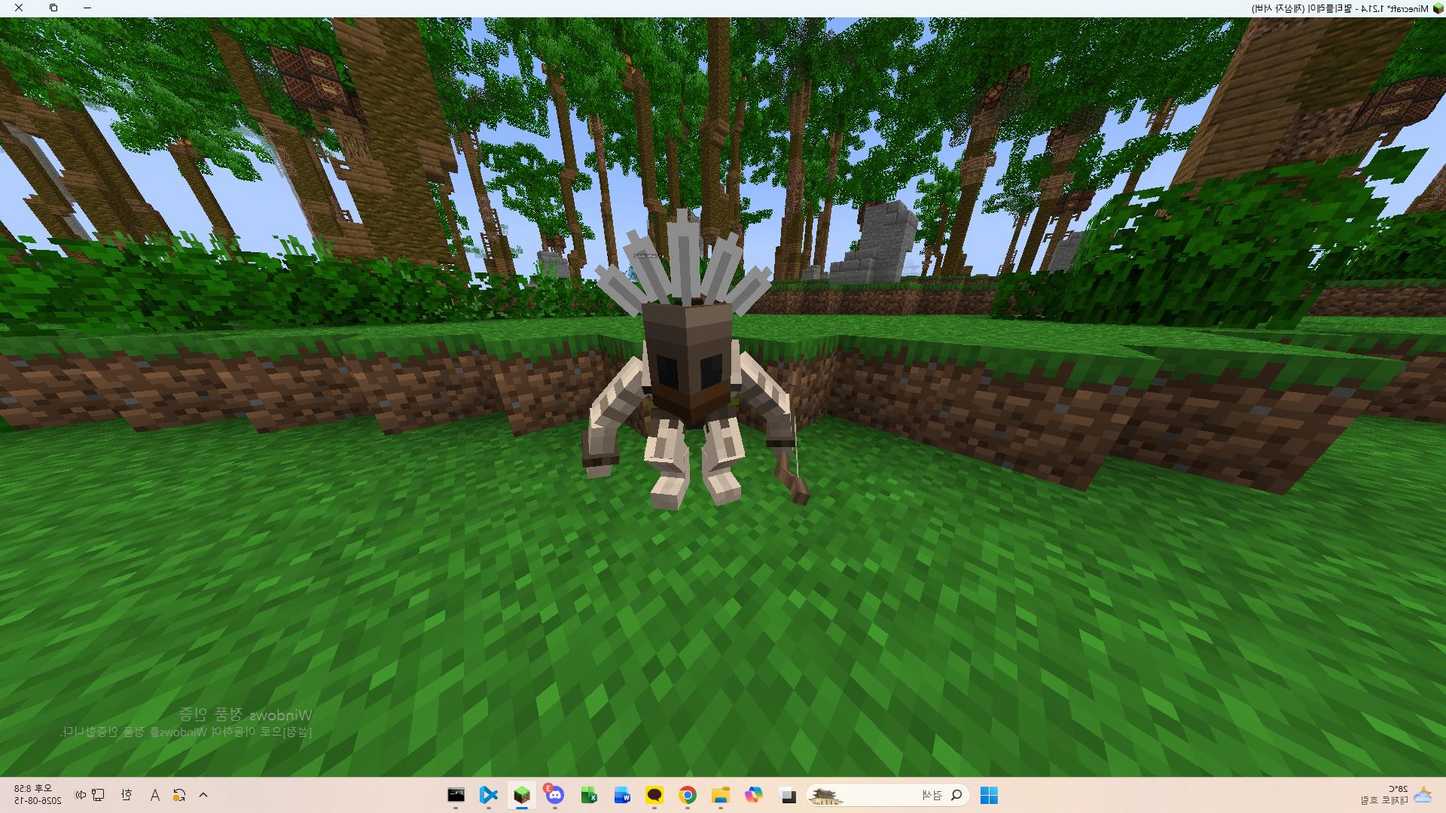bow_indian: (537, 214, 837, 557)
